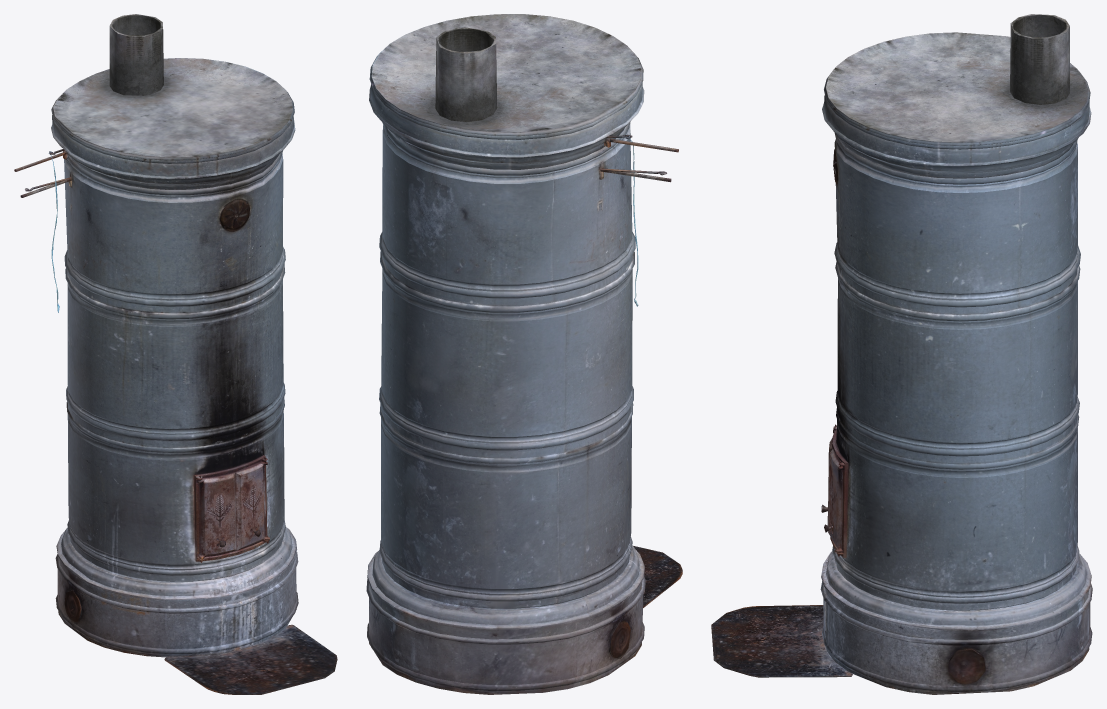
Rendered from scandinavian_masonry_heater_lod1.glb.
3 views of the same model, side by side, from view 1: azimuth 30°, elevation 25°; view 2: azimuth 150°, elevation 25°; view 3: azimuth 270°, elevation 25° (orthographic). The views are drawn at different scales.
Visible parts, largest first — view 1: scandinavian_masonry_heater; view 2: scandinavian_masonry_heater; view 3: scandinavian_masonry_heater.
Boxes of the visible parts, <box> form: scandinavian_masonry_heater: <box>14,14,337,694</box>; scandinavian_masonry_heater: <box>366,14,682,694</box>; scandinavian_masonry_heater: <box>711,14,1092,694</box>.
Bounding box in the file's own units: 1.17 × 2.36 × 1.33.
1 material, 1 textured.
